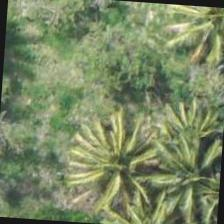Kelapa_Sawit: (72, 114, 168, 210), (142, 86, 223, 182), (141, 126, 223, 220), (167, 4, 223, 67)
